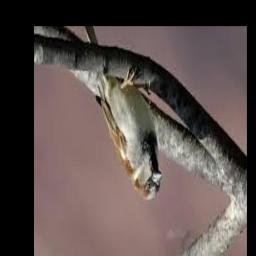Sparrow: (84, 26, 162, 201)
